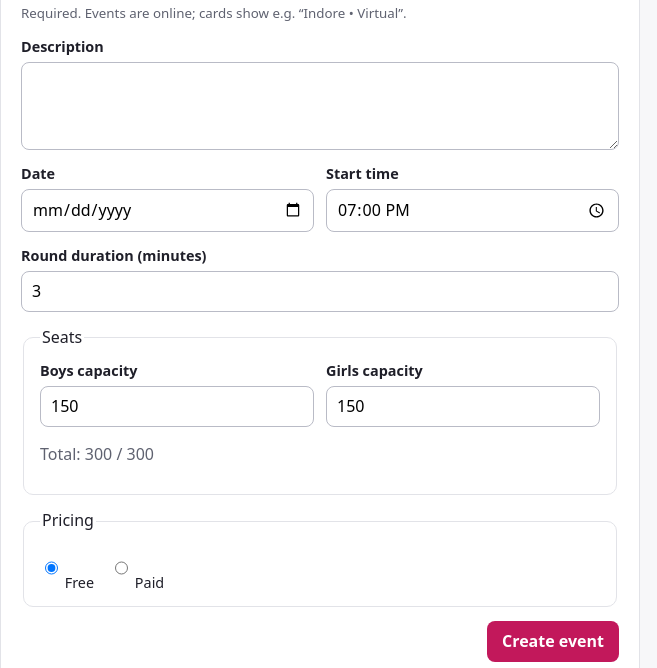
Test: EventForm › shows field errors and does not submit invalid data
The width and height of the screenshot is (657, 668).
(page scrolled)
Step 1. Click the button "Create event" → (553, 641), box [487,621,619,662]
(page scrolled)
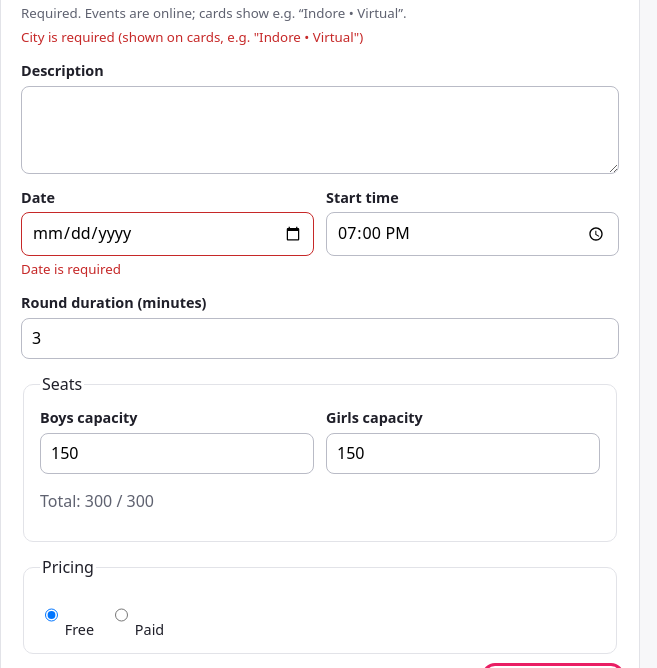
Check: the text "City is required (shown on cards, e.g. \"Indore • Virtual\")" is shown, box [21,28,363,46]
